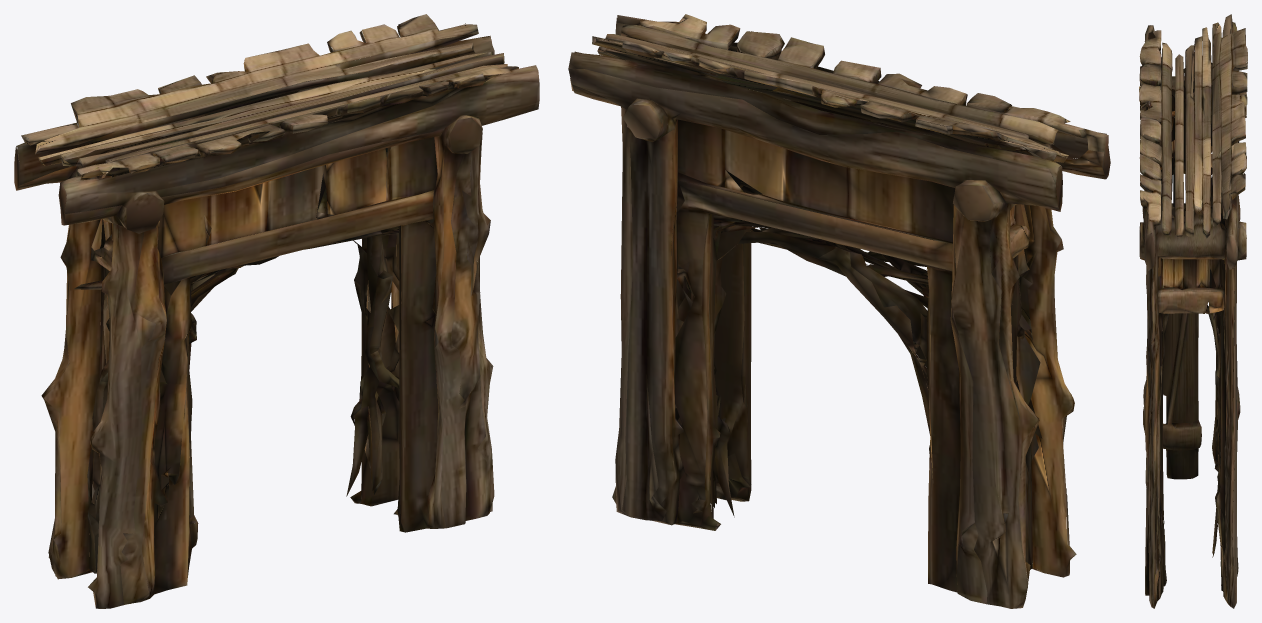
The model's file is marco_bocamina.glb.
3 views of the same model, side by side, from view 1: azimuth 30°, elevation 25°; view 2: azimuth 150°, elevation 25°; view 3: azimuth 270°, elevation 25° (orthographic). The views are drawn at different scales.
Visible parts, largest first — view 1: geometry_0; view 2: geometry_0; view 3: geometry_0.
Part boxes in pixels (box(x1,y1,x2,y2)): geometry_0: box(14, 14, 539, 608); geometry_0: box(568, 14, 1110, 608); geometry_0: box(1139, 14, 1247, 608).
Size of the model in its own units: 3.2 by 3 by 0.7004.
1 material, 1 textured.
